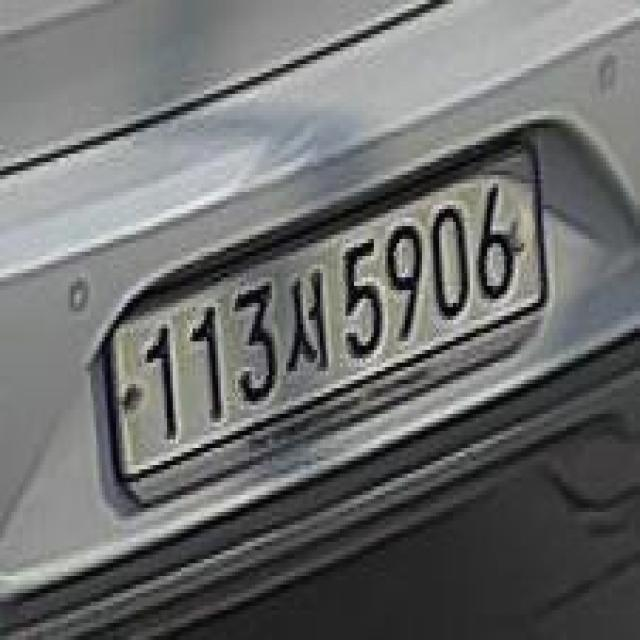illegal_plate: (101, 138, 554, 515)
